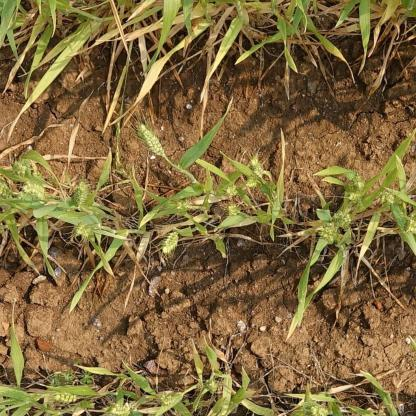whd: (137, 124, 167, 158), (70, 180, 91, 207), (21, 182, 47, 199), (162, 231, 179, 254), (333, 210, 351, 230), (54, 392, 80, 404), (73, 222, 91, 239), (318, 228, 337, 244), (108, 403, 131, 416), (250, 156, 264, 177), (404, 214, 416, 236), (0, 179, 12, 198), (380, 191, 396, 205), (158, 393, 174, 406), (12, 161, 26, 175), (310, 406, 328, 416), (350, 191, 362, 205), (207, 379, 219, 393), (353, 175, 364, 190), (228, 203, 240, 215), (245, 176, 257, 188), (177, 200, 191, 210), (226, 185, 238, 196), (32, 171, 42, 180)
